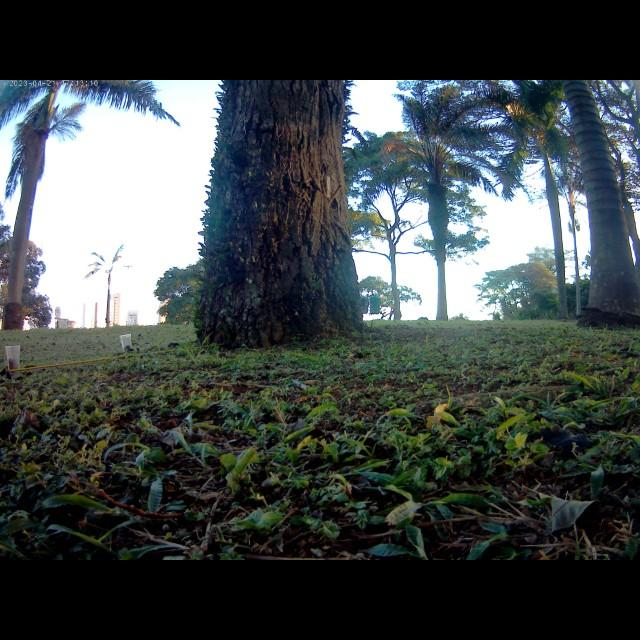arvore: (197, 83, 372, 348)
